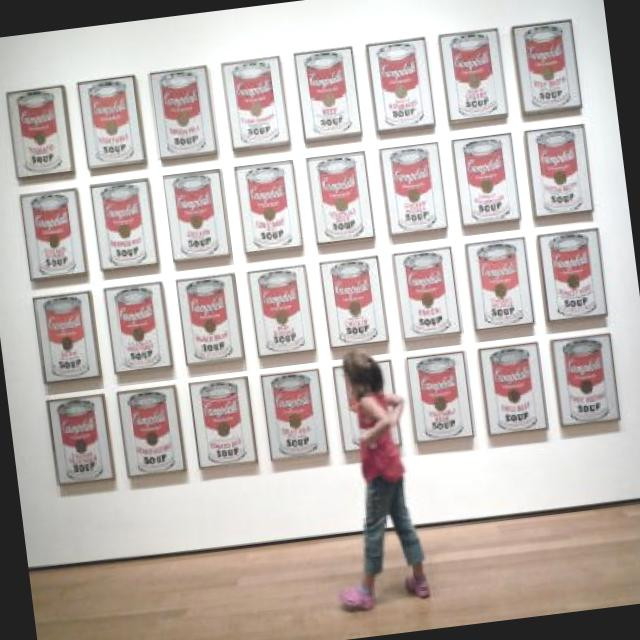Person: (326, 348, 441, 628)
